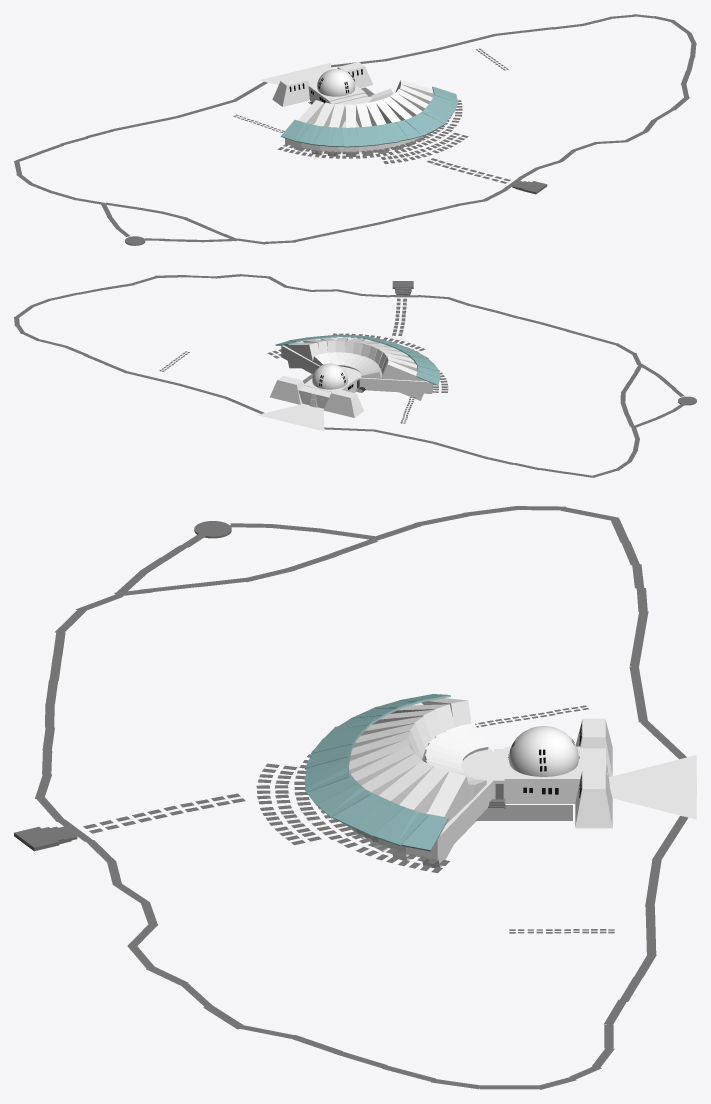
Rendered from asmundarsafn_nyasta_utgafa_8.4_12.30.obj.
3 views of the same model, one above another, from view 1: azimuth 30°, elevation 25°; view 2: azimuth 150°, elevation 25°; view 3: azimuth 270°, elevation 25° (orthographic). The views are drawn at different scales.
Visible parts, largest first — view 1: der_yfir_thaki, thak, gangstett_i_kringum_hring, syningarsalur, Sphere, h_hlid, Plane.001, v_hlid, innanhus; view 2: thak, syningarsalur, der_yfir_thaki, h_hlid, Sphere, v_hlid, Plane, Plane.001, adaldyr, gangstett_i_kringum_hring; view 3: thak, der_yfir_thaki, gangstett_i_kringum_hring, Plane.001, syningarsalur, Sphere, innanhus, v_hlid, Plane, h_hlid, gangstett_ad_vatnsbera, Plane.005 (+1 smaller).
Part boxes in pixels (x1,y1,x2,y2): der_yfir_thaki: (280, 86, 458, 147); thak: (293, 80, 433, 156); gangstett_i_kringum_hring: (277, 100, 468, 163); syningarsalur: (285, 96, 429, 152); Sphere: (317, 69, 355, 96); h_hlid: (272, 76, 309, 106); Plane.001: (125, 87, 547, 245); v_hlid: (337, 62, 372, 87); innanhus: (308, 83, 365, 103); thak: (284, 337, 426, 400); syningarsalur: (281, 337, 432, 393); der_yfir_thaki: (275, 334, 440, 385); h_hlid: (323, 389, 363, 417); Sphere: (312, 363, 347, 389); v_hlid: (270, 376, 304, 404); Plane: (279, 403, 323, 425); Plane.001: (303, 281, 696, 405); adaldyr: (298, 385, 331, 408); gangstett_i_kringum_hring: (267, 333, 448, 392); thak: (348, 698, 488, 868); der_yfir_thaki: (304, 694, 450, 851); gangstett_i_kringum_hring: (256, 750, 449, 873); Plane.001: (14, 521, 572, 851); syningarsalur: (347, 702, 493, 861); Sphere: (508, 726, 578, 776); innanhus: (504, 746, 581, 803); v_hlid: (575, 770, 612, 828); Plane: (608, 776, 696, 797); h_hlid: (576, 718, 612, 776); gangstett_ad_vatnsbera: (83, 793, 245, 833); Plane.005: (612, 755, 696, 776).
Size of the model in its own units: 148 by 8.94 by 72.93.
